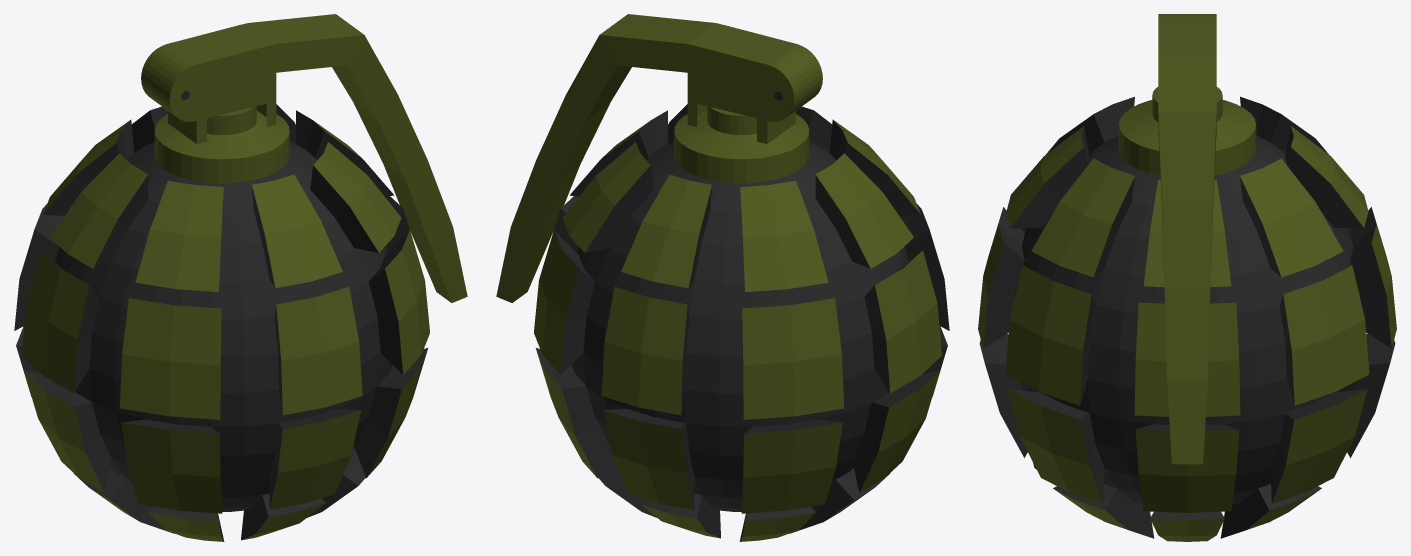
The model's file is Grenade.fbx.
3 views of the same model, side by side, from view 1: azimuth 30°, elevation 25°; view 2: azimuth 150°, elevation 25°; view 3: azimuth 270°, elevation 25° (orthographic).
Parts seen in each view (by area): view 1: Grenade, Pull; view 2: Grenade, Pull; view 3: Grenade, Pull.
Boxes of the visible parts, x1,y1,x2,y2 form: Grenade: (14, 104, 429, 541); Pull: (141, 14, 467, 302); Grenade: (534, 104, 949, 541); Pull: (496, 14, 822, 302); Grenade: (978, 87, 1396, 541); Pull: (1158, 14, 1216, 464).
Bounding box in the file's own units: 90.22 × 97.18 × 77.34.
